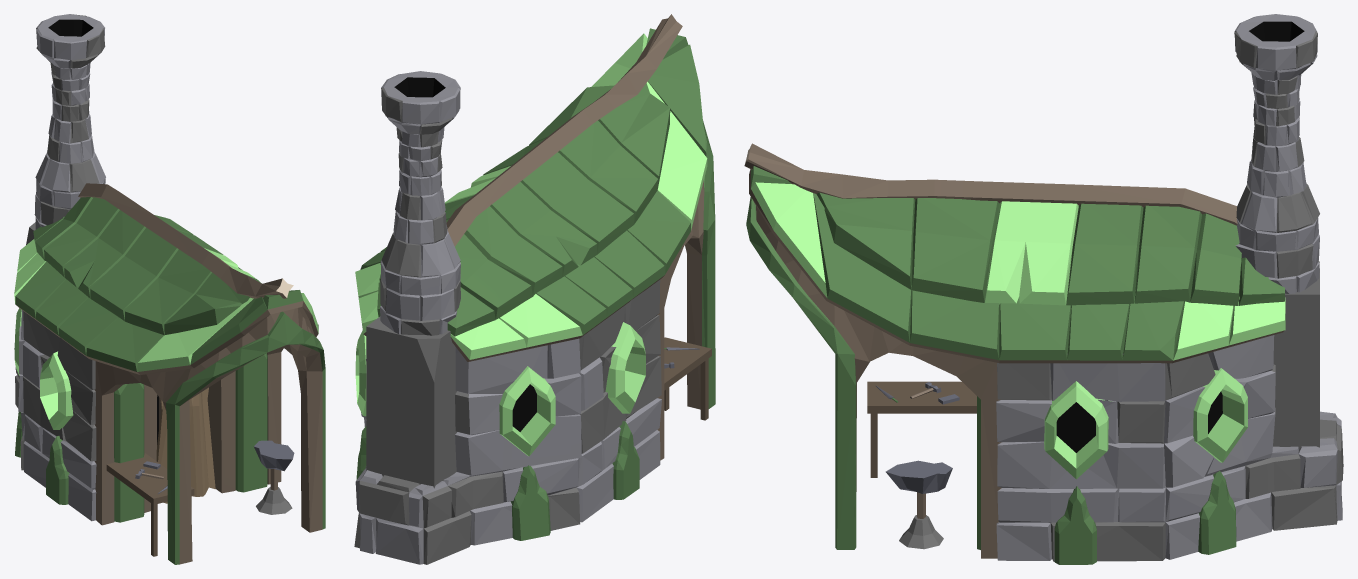
File: Smith.fbx
3 renders of one model, left to right at view 1: azimuth 30°, elevation 25°; view 2: azimuth 150°, elevation 25°; view 3: azimuth 270°, elevation 25°, orthographic. The views are drawn at different scales.
Visible parts, largest first — view 1: SMITHY; view 2: SMITHY; view 3: SMITHY.
Part boxes in pixels (bbox=[...]): SMITHY: bbox=[14, 14, 325, 564]; SMITHY: bbox=[354, 14, 715, 564]; SMITHY: bbox=[744, 14, 1343, 564].
Size of the model in its own units: 383 by 683 by 782.
